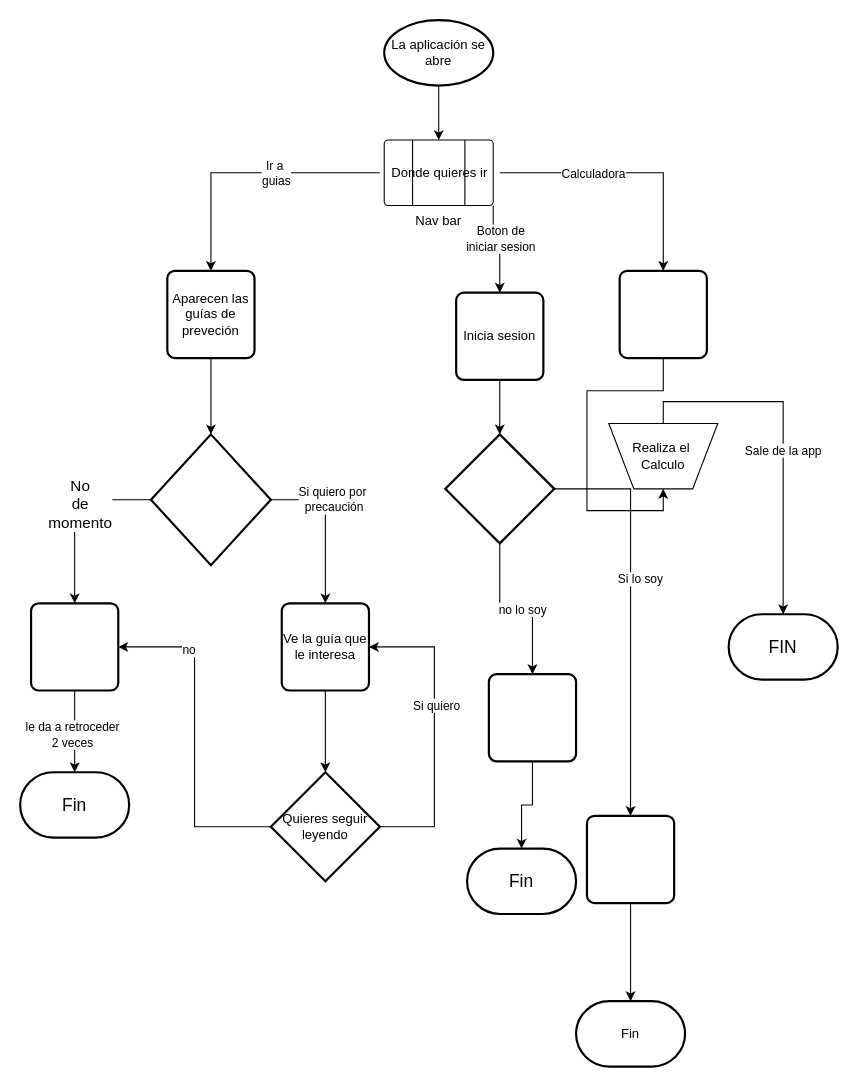
The diagram is 857 pixels wide and 1086 high, and some of its shapes have lost their labels. The shapes that lost their labels are listed below. From the top down, each one's centre as x and y in pixels, then its label:
(662,314): Se muestra la función de la calculadora
(210,499): Quieres abrir una guia?
(499,488): Eres administrador?
(74,646): Termina de usar la app
(532,717): Puedes acceder al mapa y cerrar sesion
(630,859): Lo mismo que el otro pero puedes administrar usuarios
